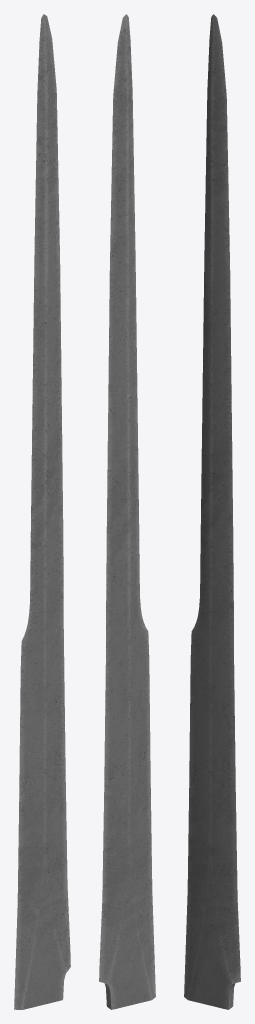
The model's file is wm_nazgul_sword_blade.fbx.
The picture shows the model from 3 angles, left to right: view 1: azimuth 30°, elevation 25°; view 2: azimuth 210°, elevation 25°; view 3: azimuth 330°, elevation 25°; orthographic projection.
Parts seen in each view (by area): view 1: wm_nazgul_sword_blade; view 2: wm_nazgul_sword_blade; view 3: wm_nazgul_sword_blade.
Boxes of the visible parts, x1,y1,x2,y2 form: wm_nazgul_sword_blade: (14,14,70,1009); wm_nazgul_sword_blade: (99,14,155,1009); wm_nazgul_sword_blade: (184,14,240,1009).
Size of the model in its own units: 0.0715 by 0.0102 by 1.19.
1 material, 1 textured.
